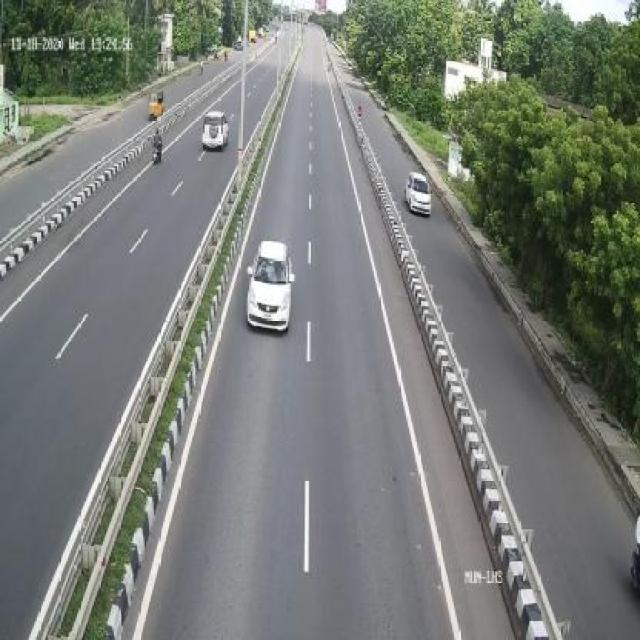car: (244, 235, 298, 340), (404, 171, 436, 218), (203, 106, 231, 156)
